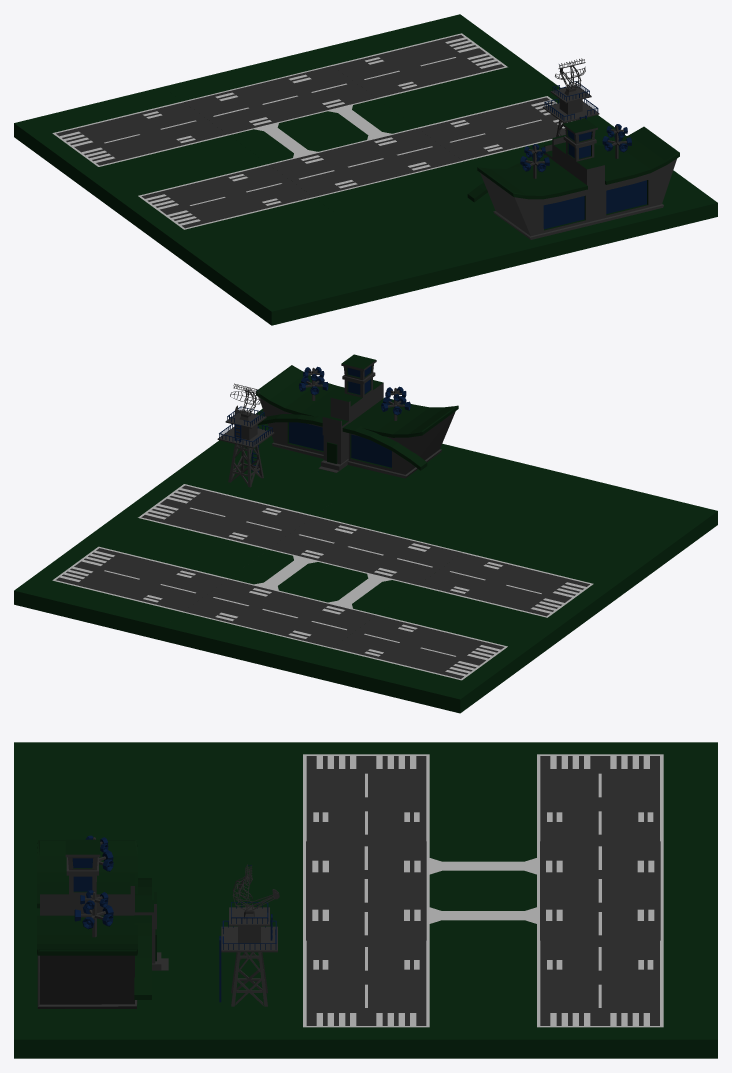
File: Airport.FBX
3 views of the same model, one above another, from view 1: azimuth 30°, elevation 25°; view 2: azimuth 150°, elevation 25°; view 3: azimuth 270°, elevation 25° (orthographic). The views are drawn at different scales.
Visible parts, largest first — view 1: airport; view 2: airport; view 3: airport.
Part boxes in pixels (bbox=[...]): airport: bbox=[14, 14, 717, 325]; airport: bbox=[14, 354, 717, 713]; airport: bbox=[14, 742, 717, 1058].
Size of the model in its own units: 30000 by 6861 by 30000.
